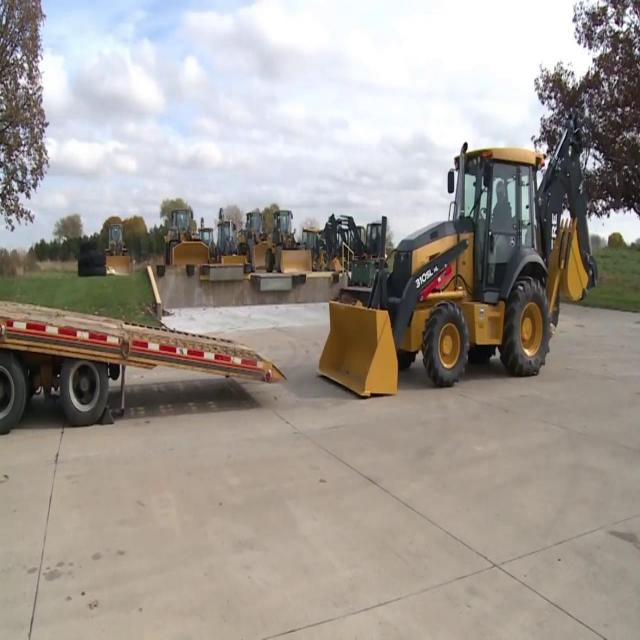Loader: (163, 204, 209, 274), (270, 204, 312, 272), (102, 217, 134, 273)
